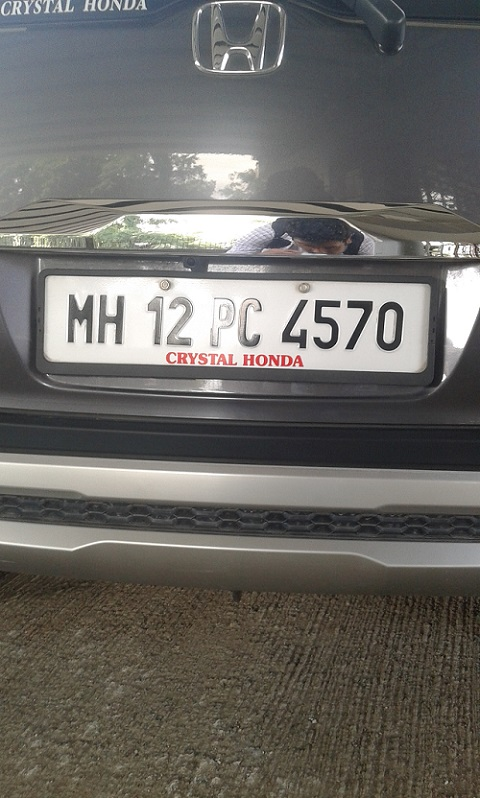licenseplate: (36, 262, 436, 380)
